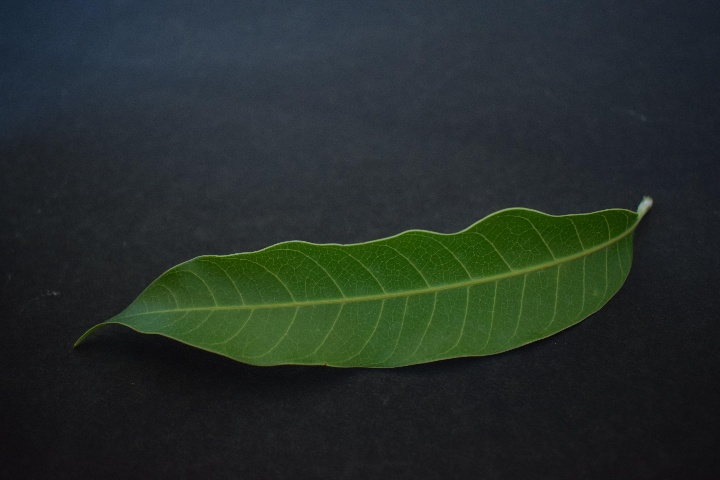healthy: (104, 194, 640, 377)
